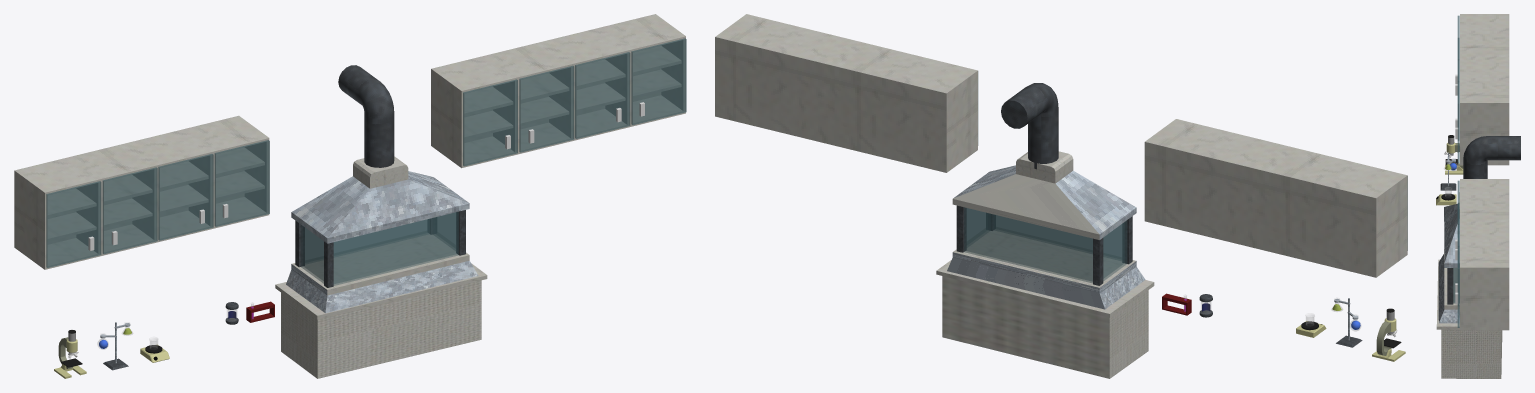
The model's file is laboratory_bullsshit.glb.
The picture shows the model from 3 angles, left to right: view 1: azimuth 30°, elevation 25°; view 2: azimuth 150°, elevation 25°; view 3: azimuth 270°, elevation 25°; orthographic projection. The views are drawn at different scales.
Visible parts, largest first — view 1: FumeHud, Shelves, Shelves.001, Microscope, ShitStand; view 2: FumeHud, Shelves, Shelves.001, Microscope; view 3: Shelves.001, FumeHud, Shelves, Microscope, ShitStand, Varic.
Part boxes in pixels (x1,y1,x2,y2): FumeHud: (275,65,487,378); Shelves: (14,115,269,269); Shelves.001: (431,14,686,168); Microscope: (54,330,86,378); ShitStand: (97,322,132,370); FumeHud: (936,83,1154,378); Shelves: (1144,119,1407,277); Shelves.001: (715,14,978,172); Microscope: (1372,308,1405,361); Shelves.001: (1455,179,1509,330); FumeHud: (1436,136,1520,378); Shelves: (1455,14,1509,165); Microscope: (1444,135,1463,174); ShitStand: (1440,152,1458,190); Varic: (1436,187,1456,205).
Bounding box in the file's own units: 5.44 × 2.09 × 0.7685.
Materials: 18 (5 with a texture image).
